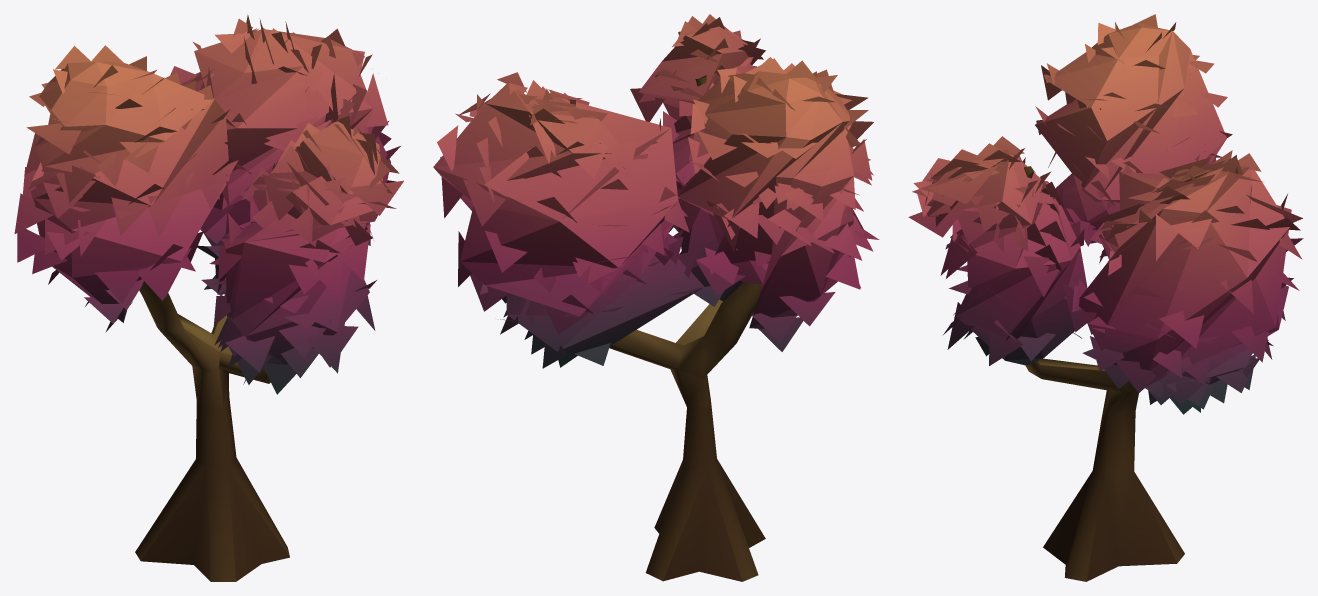
File: Tree_5I.fbx
3 renders of one model, left to right at view 1: azimuth 30°, elevation 25°; view 2: azimuth 150°, elevation 25°; view 3: azimuth 270°, elevation 25°, orthographic. The views are drawn at different scales.
Parts seen in each view (by area): view 1: Tree_5I; view 2: Tree_5I; view 3: Tree_5I.
Part boxes in pixels (left/top/right/bottom): Tree_5I: left=14, top=14, right=403, bottom=581; Tree_5I: left=433, top=14, right=879, bottom=581; Tree_5I: left=908, top=14, right=1303, bottom=581.
Size of the model in its own units: 664 by 835 by 616.
